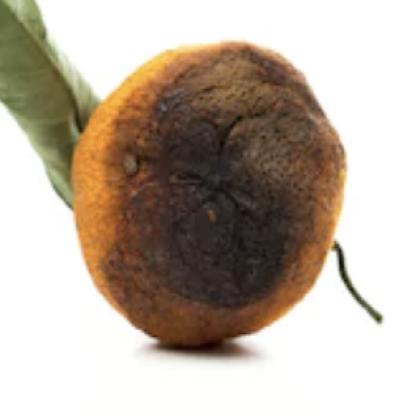rotten: (71, 41, 347, 343)
